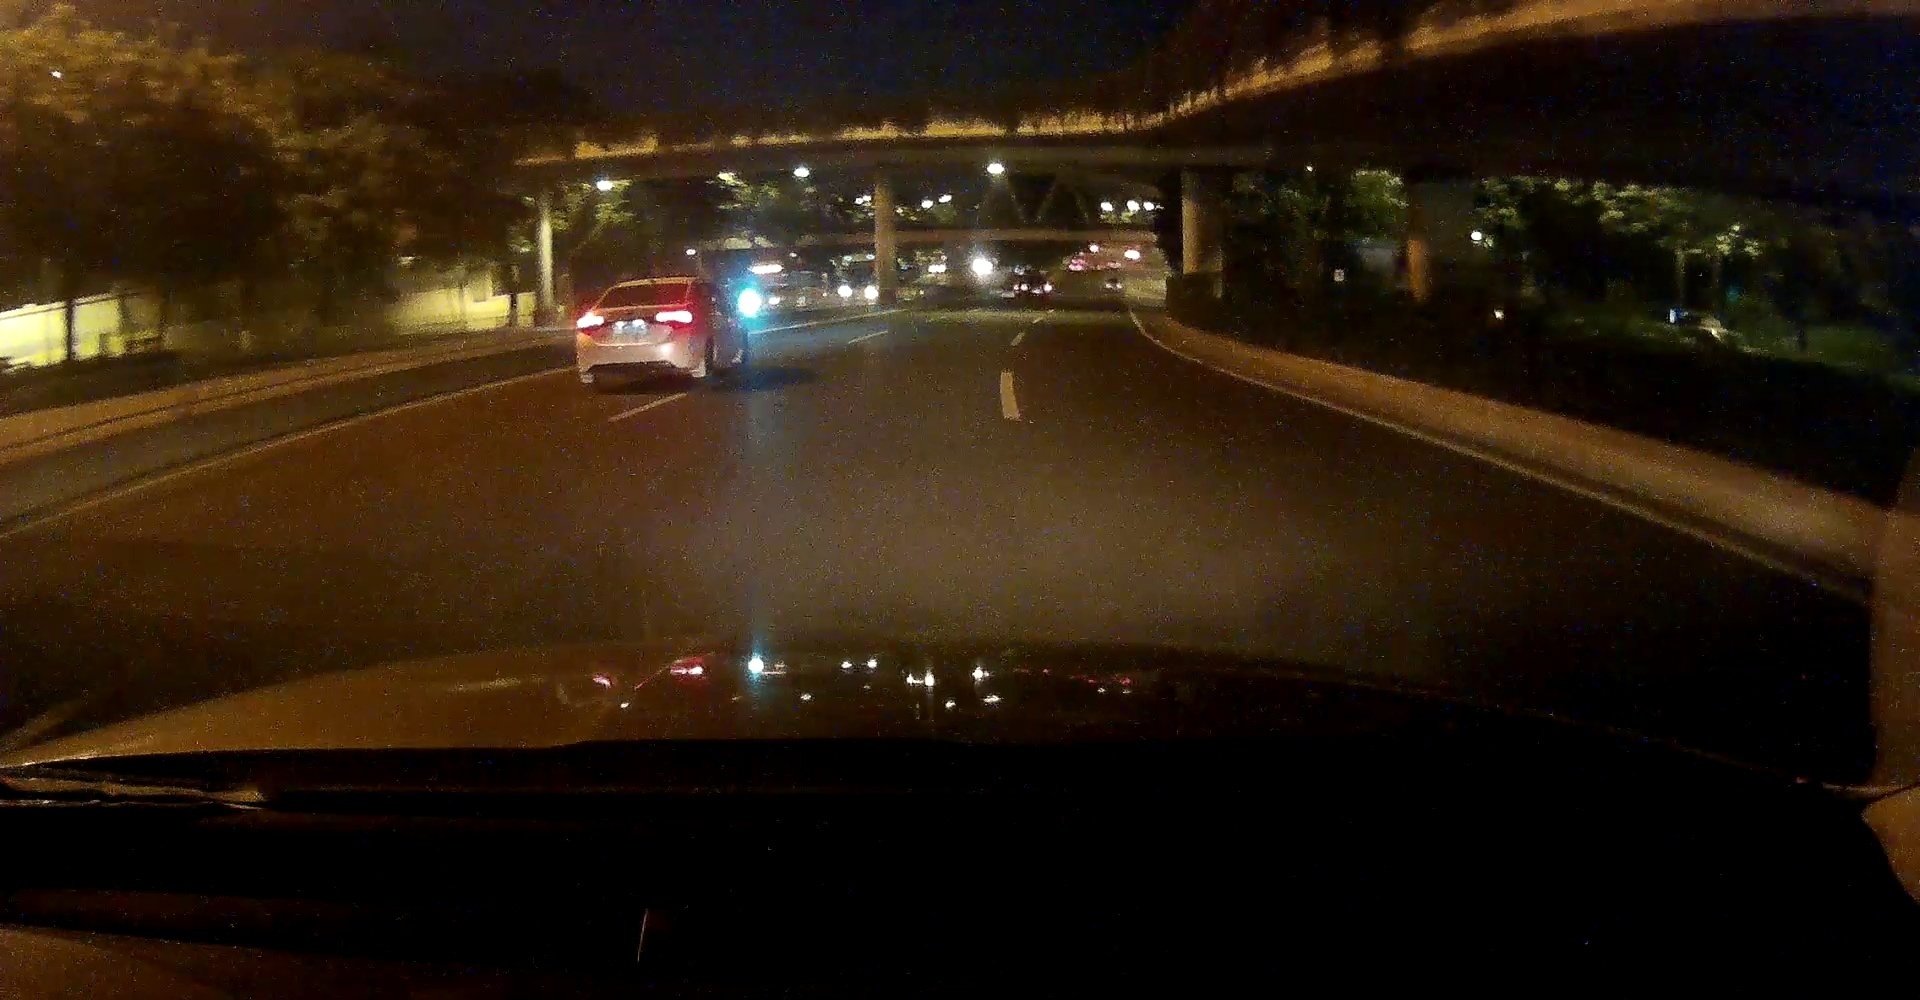L_light: (577, 315, 604, 327)
R_light: (655, 310, 695, 324)
T_light: (639, 284, 662, 288)
night-no: (575, 275, 700, 385)
